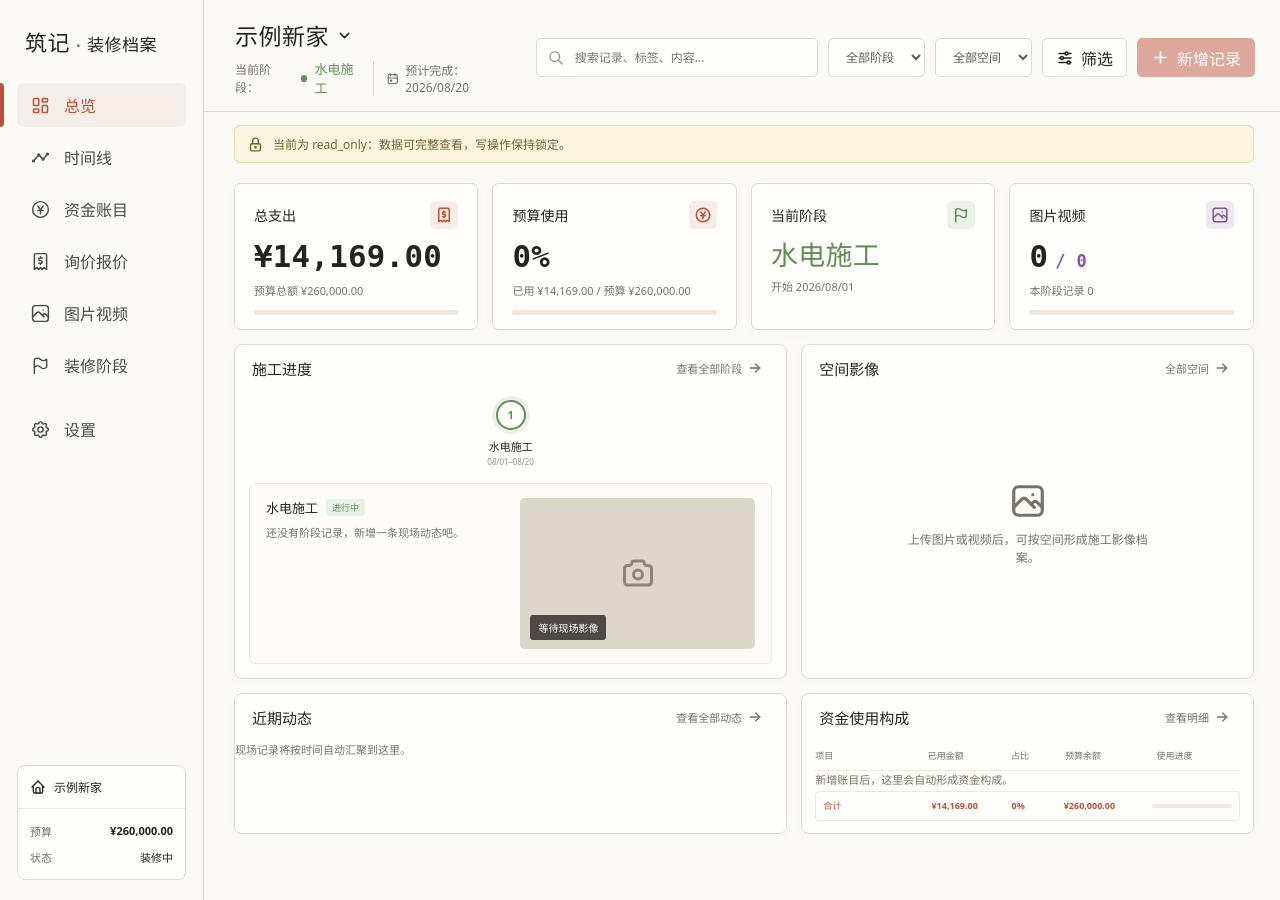
Test case: Renovation Hub app › loads the cockpit and navigates to the media archive
This screenshot has width=1280, height=900.
expect the text "总支出" is shown: met, box [254,205,296,225]
Click the button "图片视频" at coordinates (102, 313), box [17,291,186,335]
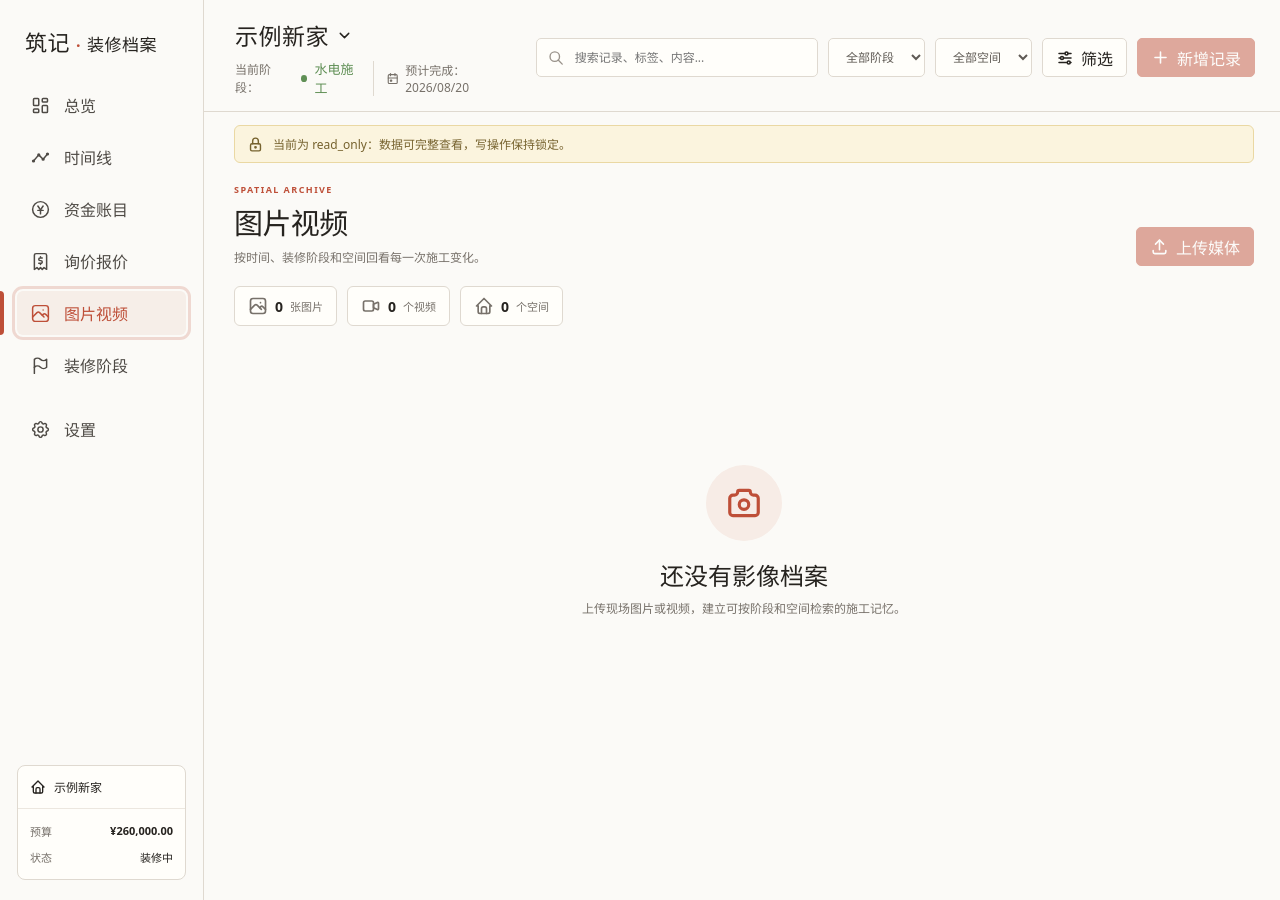
expect the heading "图片视频" is shown: met, box [234,203,348,242]
expect the heading "还没有影像档案" is shown: met, box [660,557,828,592]
